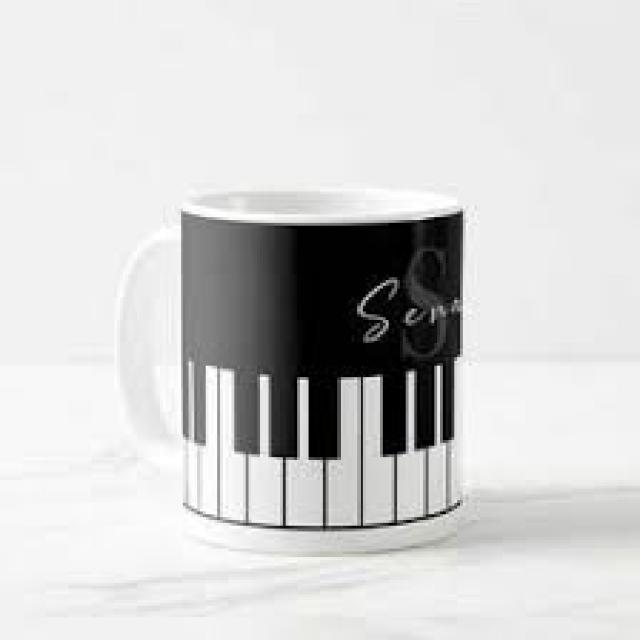taza: (114, 188, 467, 556)
